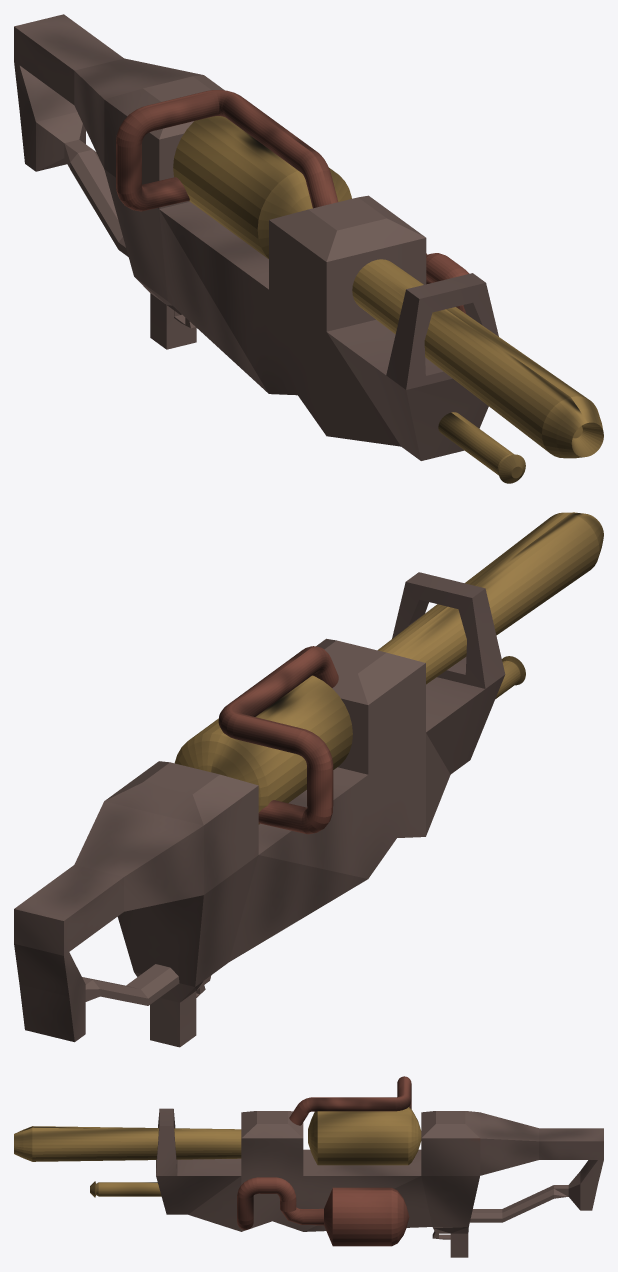
The model's file is pistol.obj.
3 renders of one model, top to bottom at view 1: azimuth 30°, elevation 25°; view 2: azimuth 150°, elevation 25°; view 3: azimuth 270°, elevation 25°, orthographic. The views are drawn at different scales.
Visible parts, largest first — view 1: 円柱; view 2: 円柱; view 3: 円柱.
Part boxes in pixels (x1,y1,x2,y2): 円柱: (14,14,603,483); 円柱: (14,512,603,1047); 円柱: (14,1076,603,1257).
Size of the model in its own units: 0.5247 by 0.582 by 2.
